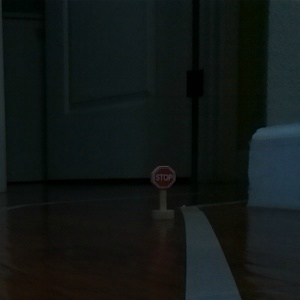stop sign: (147, 164, 178, 223)
